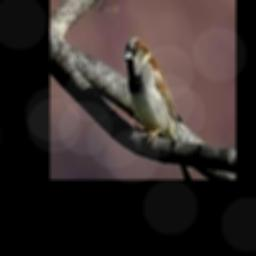Sparrow: (124, 37, 193, 180)
